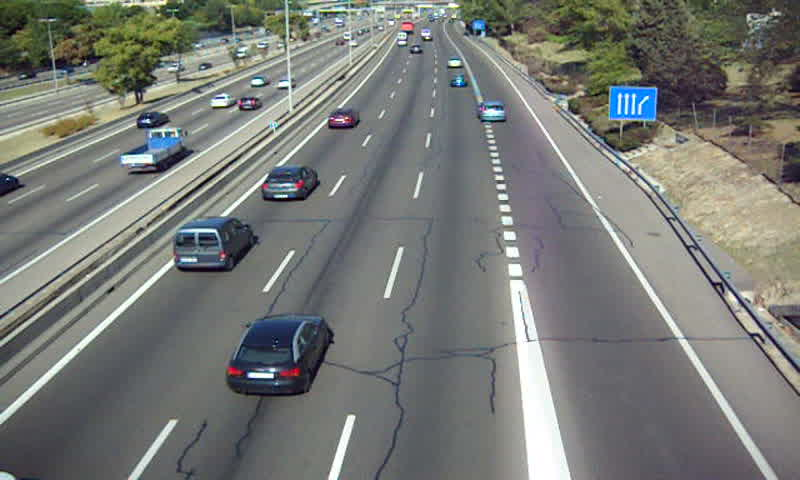car: (226, 313, 331, 393), (261, 166, 319, 200), (327, 109, 359, 130), (476, 99, 506, 121), (448, 74, 468, 88), (446, 56, 464, 68)
van: (172, 218, 253, 269)
